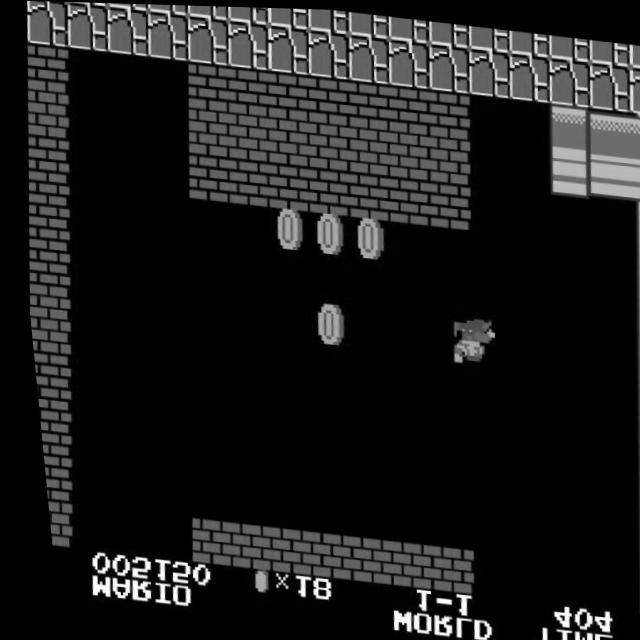1- brick_block: (222, 109, 271, 160), (262, 68, 311, 119), (297, 527, 346, 578), (181, 151, 230, 201), (182, 60, 231, 110), (217, 519, 266, 569), (222, 64, 271, 114), (257, 523, 306, 573), (302, 118, 351, 168), (337, 532, 386, 582), (342, 123, 391, 173), (382, 127, 431, 177), (417, 541, 466, 591), (422, 132, 471, 182), (423, 86, 472, 136), (221, 156, 270, 205), (261, 160, 310, 209), (301, 165, 350, 214), (20, 225, 68, 275), (22, 42, 70, 92), (177, 514, 225, 564), (182, 105, 230, 155), (262, 114, 310, 164), (303, 73, 351, 123), (343, 77, 391, 127), (378, 536, 426, 586), (383, 82, 431, 132), (21, 134, 69, 183), (342, 169, 390, 218), (382, 174, 430, 223), (422, 178, 470, 227), (21, 179, 68, 229), (20, 270, 67, 319), (22, 88, 69, 137), (24, 315, 67, 365), (27, 361, 66, 411), (31, 407, 65, 456), (34, 452, 65, 501), (38, 497, 64, 547)
11- little_mario: (440, 313, 491, 366)
14- pipe: (583, 149, 632, 199), (583, 104, 632, 154), (618, 563, 640, 613), (618, 518, 640, 568), (619, 427, 640, 477), (619, 473, 640, 522), (620, 381, 640, 431), (620, 336, 640, 385), (621, 291, 640, 341), (622, 245, 640, 295), (622, 108, 640, 158), (622, 200, 640, 249), (623, 154, 640, 203)
15- pipe_head: (543, 99, 592, 150), (543, 145, 591, 195)
17- undestructible_block: (142, 10, 191, 60), (223, 19, 272, 69), (263, 23, 312, 73), (303, 28, 352, 78), (343, 32, 392, 82), (383, 36, 432, 86), (423, 41, 472, 91), (503, 49, 552, 99), (584, 58, 633, 108), (62, 1, 111, 50), (103, 5, 151, 55), (183, 14, 231, 64), (464, 45, 512, 95), (544, 54, 592, 104), (23, 1, 70, 47), (346, 10, 391, 37), (385, 14, 430, 41), (426, 18, 471, 45), (466, 23, 511, 50), (506, 27, 551, 54), (546, 32, 591, 59), (586, 36, 631, 63), (305, 7, 350, 32), (265, 6, 310, 27), (623, 62, 640, 112), (226, 5, 270, 23), (186, 4, 230, 18), (146, 3, 190, 14), (625, 42, 640, 67), (106, 2, 149, 9)
2- coin: (301, 209, 350, 259), (341, 214, 390, 264), (300, 300, 348, 351), (261, 205, 309, 255)
